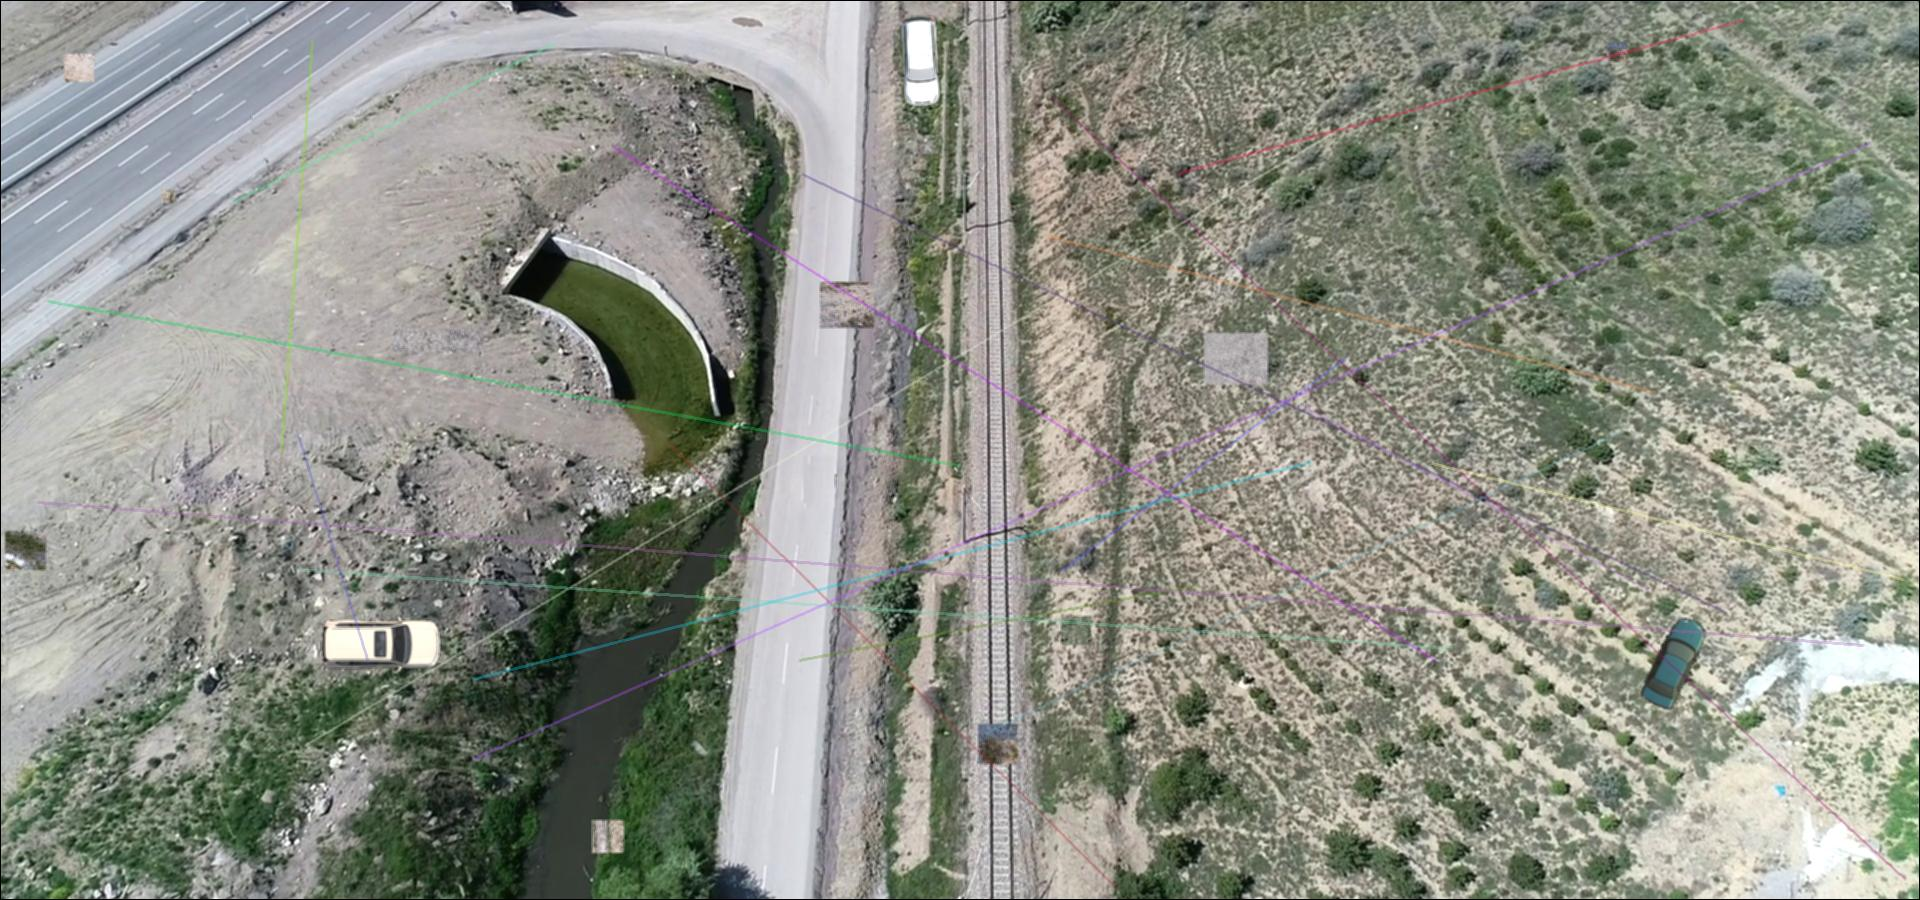arac: (318, 613, 446, 675), (1638, 615, 1704, 711), (894, 15, 945, 107)
